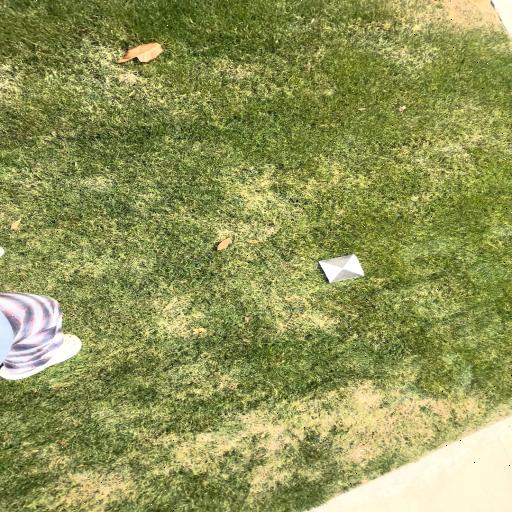target: (320, 254, 365, 283)
